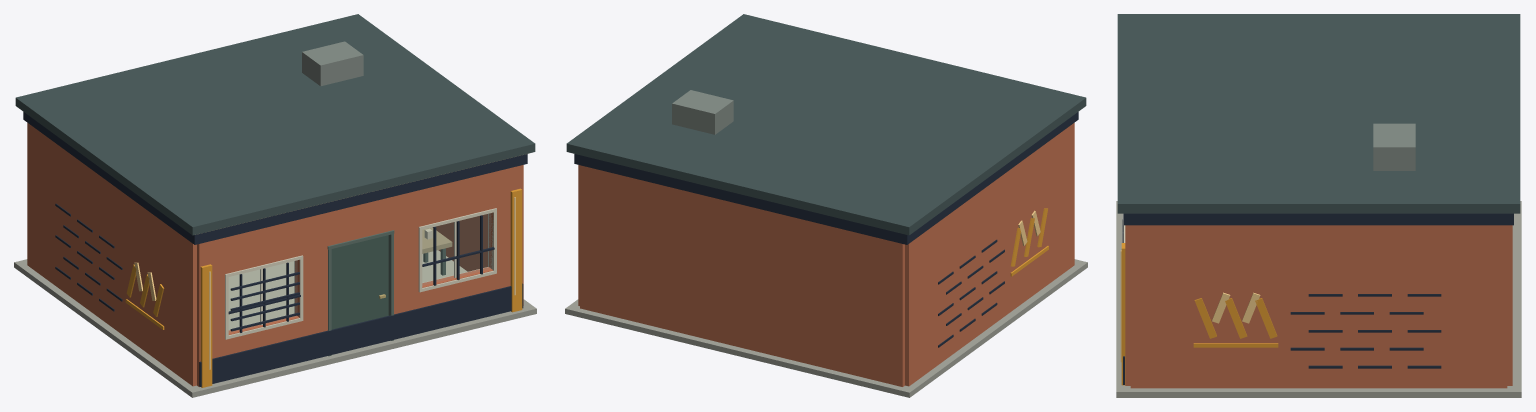
File: workshop.glb
3 views of the same model, side by side, from view 1: azimuth 30°, elevation 25°; view 2: azimuth 150°, elevation 25°; view 3: azimuth 270°, elevation 25° (orthographic). The views are drawn at different scales.
Parts seen in each view (by area): view 1: roof, side-wall (×2), front-wall (×7), painted-plinth, foundation, cornice-outline, window-glass (×2), door-panel, floor, corner-pilaster (×2), roof-vent, door-frame (+1 smaller); view 2: roof, back-wall, side-wall, foundation, cornice-outline, roof-vent; view 3: roof, side-wall, foundation, cornice-outline, roof-vent, back-wall, corner-pilaster, graffiti-underline, front-wall.
Part boxes in pixels (bbox=[...]): roof: bbox=[15, 14, 535, 235]; side-wall (×2): bbox=[27, 123, 523, 386]; front-wall (×7): bbox=[197, 165, 521, 386]; painted-plinth: bbox=[199, 283, 523, 386]; foundation: bbox=[14, 259, 536, 397]; cornice-outline: bbox=[23, 112, 527, 244]; window-glass (×2): bbox=[229, 214, 490, 331]; door-panel: bbox=[331, 235, 388, 329]; floor: bbox=[228, 250, 467, 329]; corner-pilaster (×2): bbox=[200, 188, 522, 387]; roof-vent: bbox=[302, 41, 363, 86]; door-frame: bbox=[388, 233, 393, 340]; roof: bbox=[566, 14, 1086, 235]; back-wall: bbox=[580, 165, 904, 386]; side-wall: bbox=[905, 123, 1074, 386]; foundation: bbox=[565, 259, 1087, 397]; cornice-outline: bbox=[574, 112, 1078, 244]; roof-vent: bbox=[672, 90, 733, 134]; roof: bbox=[1117, 14, 1520, 213]; side-wall: bbox=[1130, 225, 1507, 388]; foundation: bbox=[1116, 201, 1521, 397]; cornice-outline: bbox=[1124, 213, 1513, 225]; roof-vent: bbox=[1373, 123, 1415, 170]; back-wall: bbox=[1507, 225, 1512, 385]; corner-pilaster: bbox=[1121, 243, 1125, 385]; graffiti-underline: bbox=[1193, 343, 1278, 347]; front-wall: bbox=[1125, 268, 1130, 334].
Size of the model in its own units: 9.6 by 5.08 by 8.6.
